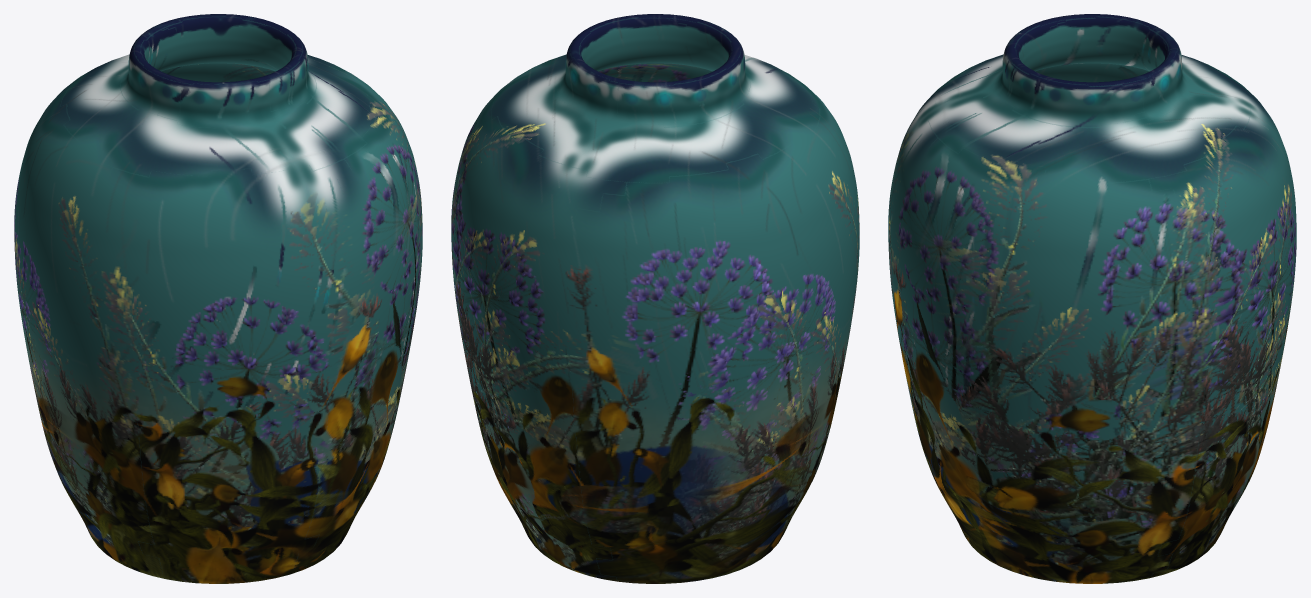
Rendered from Jarron_Vertex.fbx.
3 views of the same model, side by side, from view 1: azimuth 30°, elevation 25°; view 2: azimuth 150°, elevation 25°; view 3: azimuth 270°, elevation 25° (orthographic).
Visible parts, largest first — view 1: ChinaVase05; view 2: ChinaVase05; view 3: ChinaVase05.
Part boxes in pixels (x1,y1,x2,y2): ChinaVase05: [14, 14, 422, 583]; ChinaVase05: [451, 14, 859, 583]; ChinaVase05: [888, 14, 1296, 583].
Size of the model in its own units: 9.42 by 12.36 by 9.45.
Materials: 1 (1 with a texture image).
